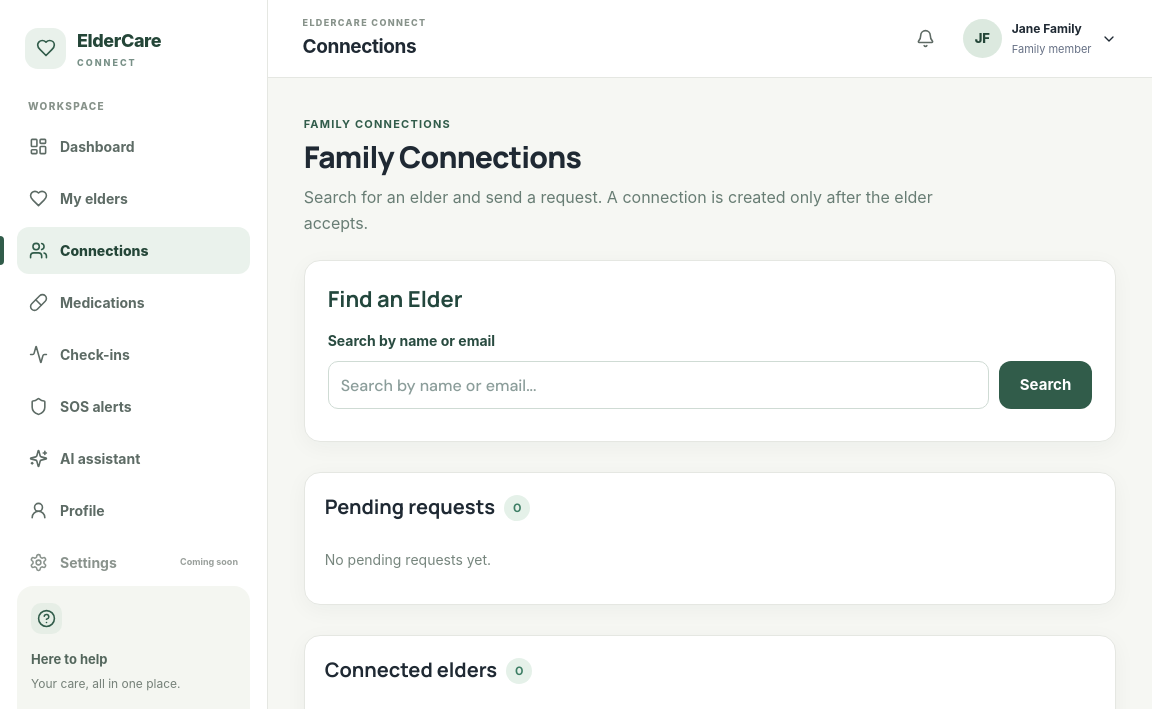
family and elder connection pages › searches for an elder and sends a family connection request
Check: the heading "Find an Elder" is shown, box x1=328 y1=284 x2=462 y2=314
Step 1. Type "John" into the search field labelled "Search by name or email" → [658, 385], box x1=328 y1=361 x2=989 y2=409
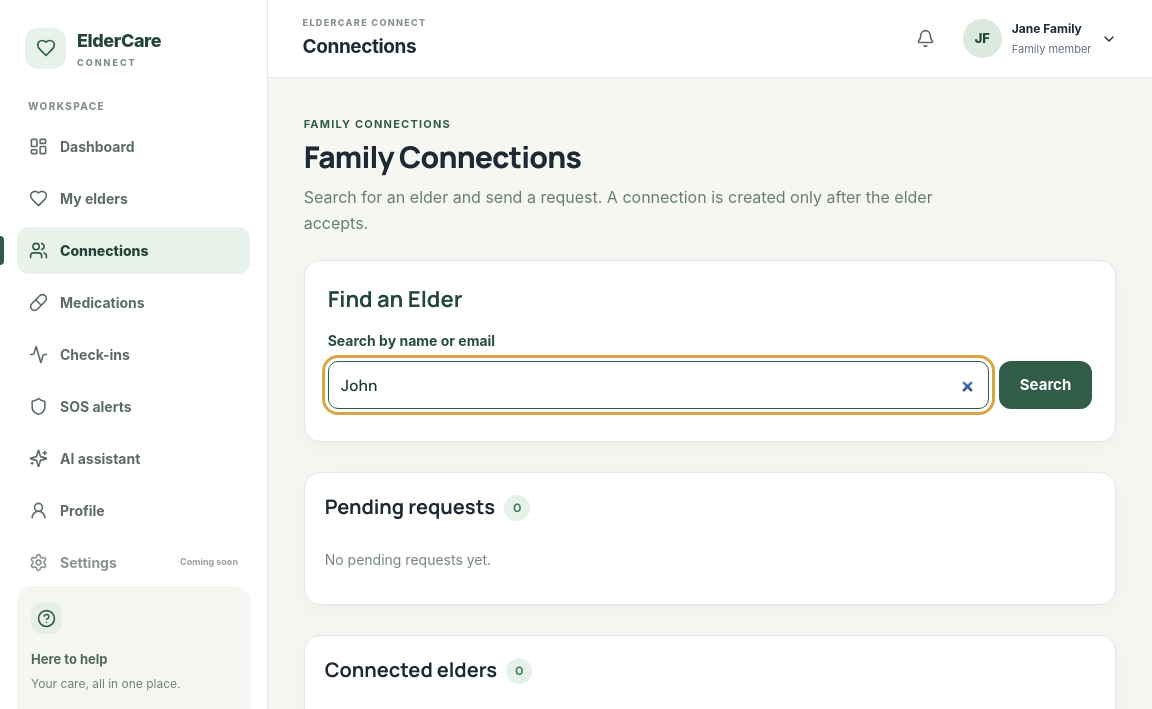
Step 2. Click the button "Search" → [1046, 385], box x1=999 y1=361 x2=1092 y2=409
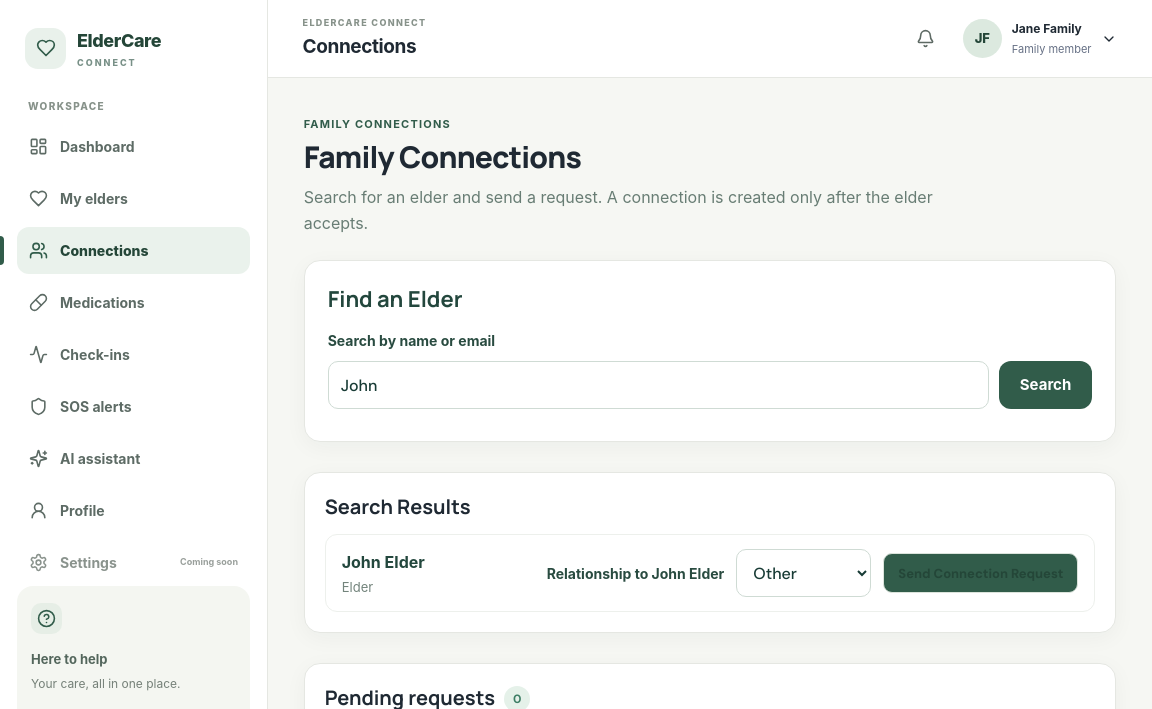
Check: the text "John Elder" is shown, box x1=342 y1=552 x2=425 y2=572
Step 3. Select "Daughter" in the dropdown labelled "Relationship to John Elder" → [804, 573], box x1=736 y1=549 x2=871 y2=597
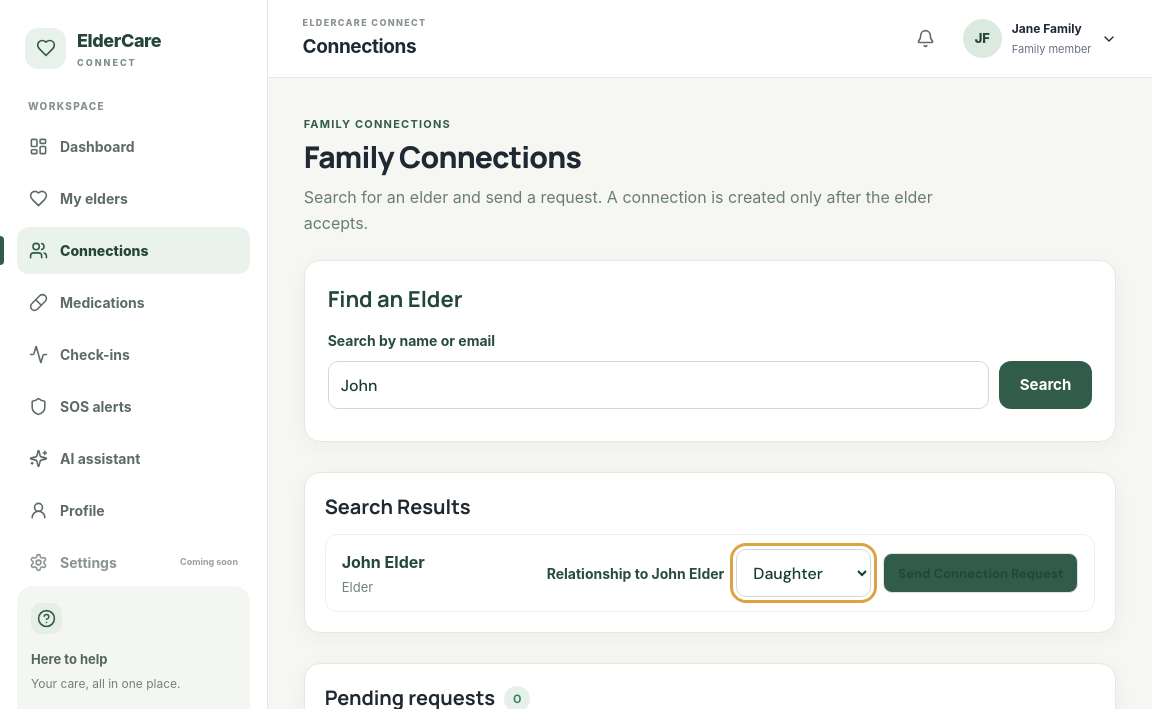
Step 4. Click the button "Send Connection Request" → [981, 573], box x1=883 y1=553 x2=1078 y2=593
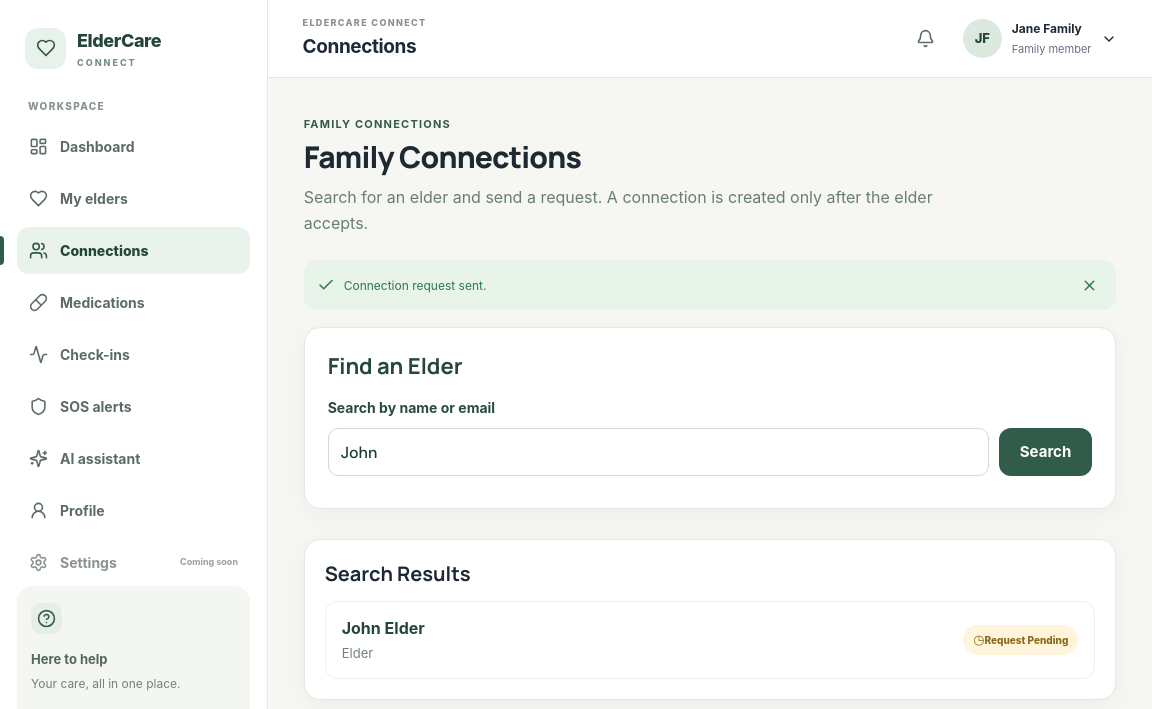
Check: the text "Request Pending" is shown, box x1=963 y1=625 x2=1078 y2=655
Check: the text "Connection request sent." is shown, box x1=344 y1=278 x2=486 y2=293
Check: the button "Send Connection Request" is gone
